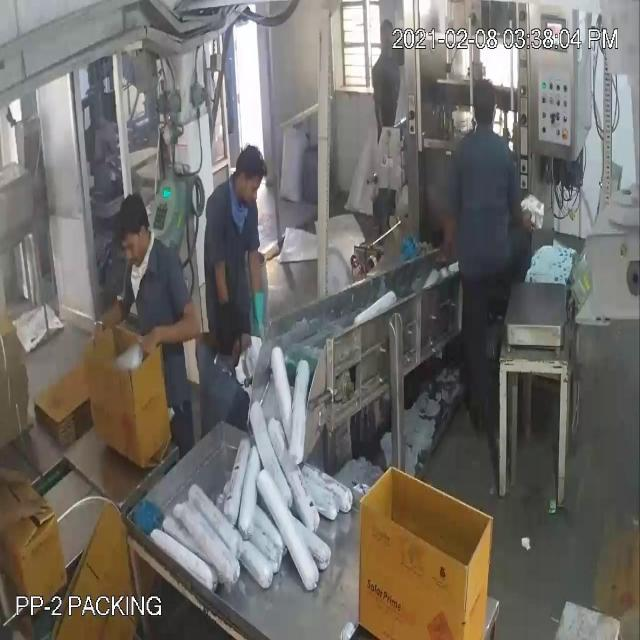No_Gloves: (30, 52, 258, 332)
